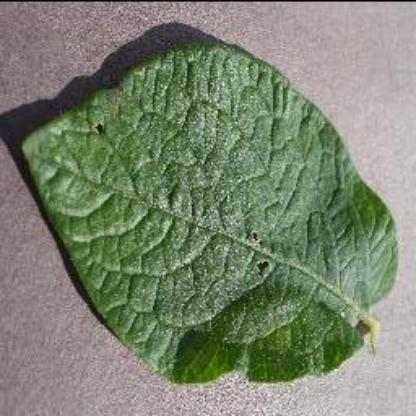Healthy-plant: (17, 41, 400, 389)
